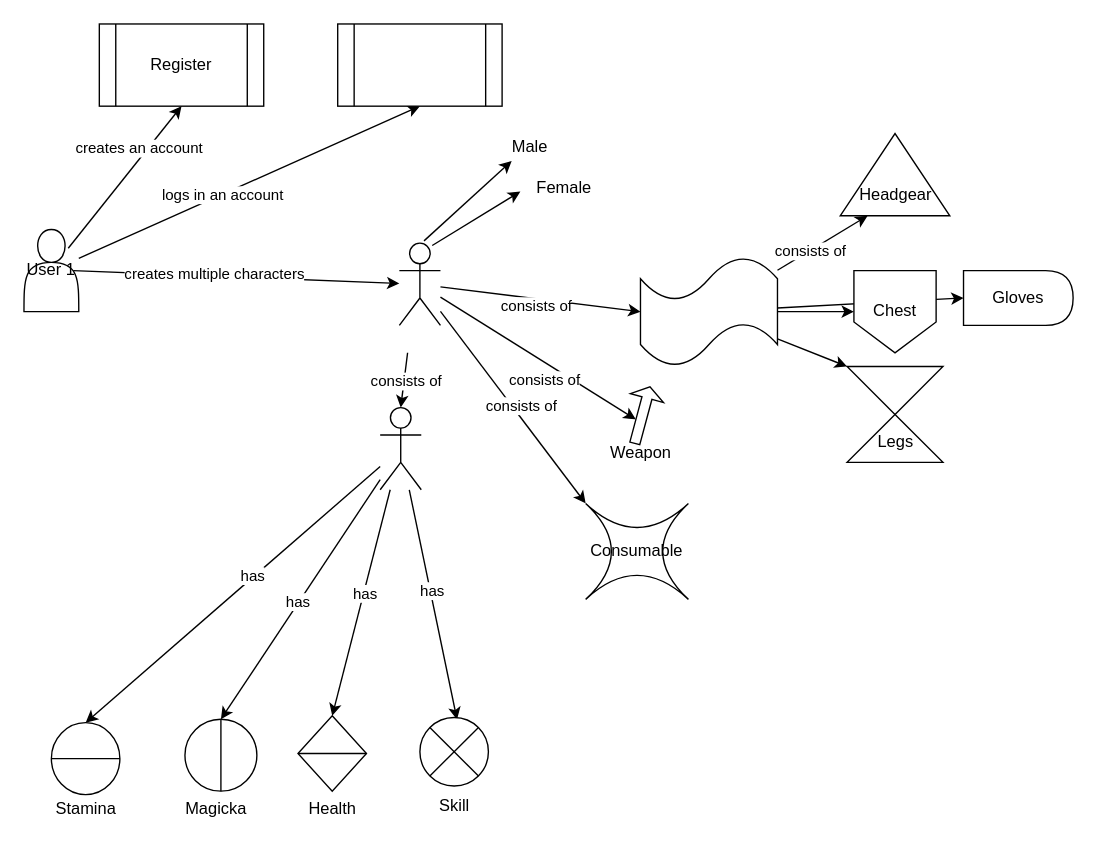
Image size: 1097x852. Some labels were removed from this diagram. Each missing label, with the box of its shape:
Character Name 1: (398, 242, 440, 325)
Clothing: (639, 256, 777, 366)
Login: (336, 23, 502, 106)
Race: (379, 406, 421, 490)
